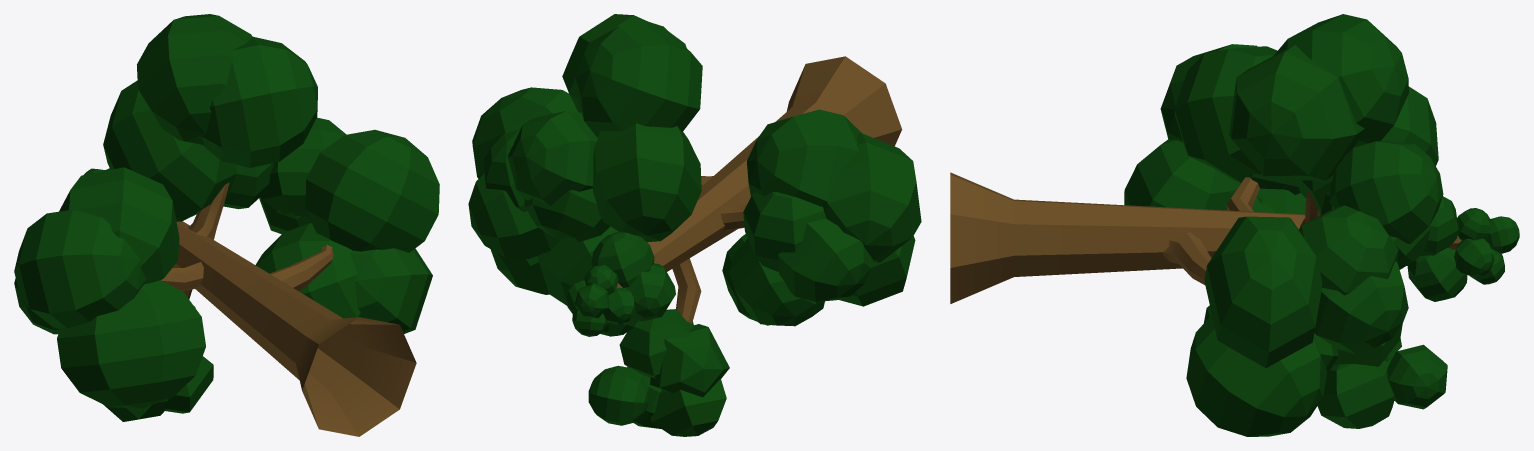
Rendered from Tree07.fbx.
3 renders of one model, left to right at view 1: azimuth 30°, elevation 25°; view 2: azimuth 150°, elevation 25°; view 3: azimuth 270°, elevation 25°, orthographic. The views are drawn at different scales.
Parts seen in each view (by area): view 1: Tree07; view 2: Tree07; view 3: Tree07.
Part boxes in pixels (x1=…): Tree07: x1=14, y1=14, x2=439, y2=436; Tree07: x1=468, y1=14, x2=921, y2=436; Tree07: x1=950, y1=14, x2=1519, y2=436.
Bounding box in the file's own units: 4.68 × 4.09 × 5.07.
